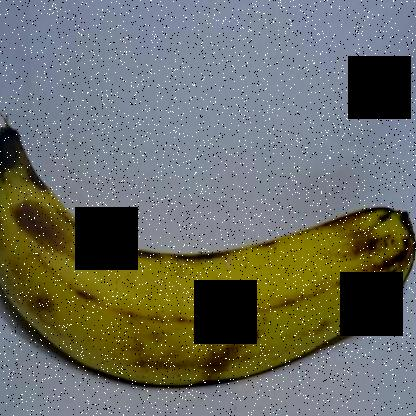ripe: (1, 102, 415, 401)
